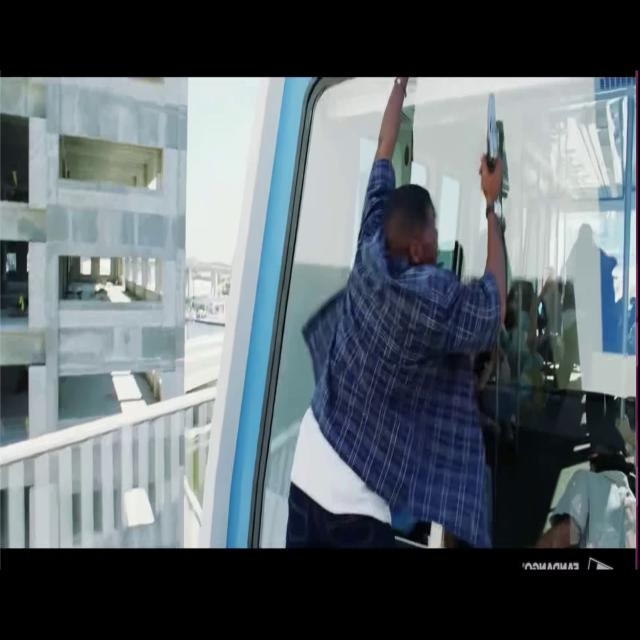weapons: (473, 76, 504, 205)
